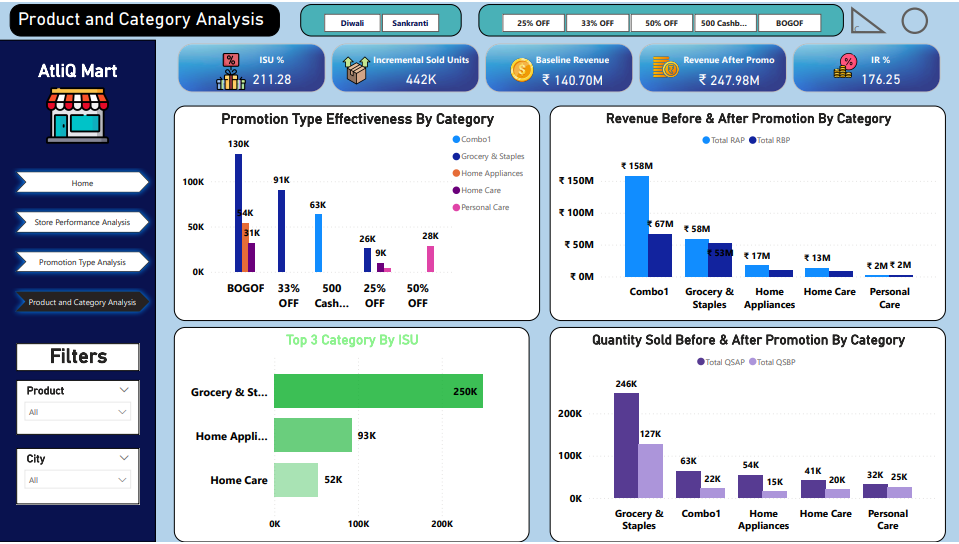

The page's visual inventory and layout, read from the dashboard file:
{"tool":"powerbi","page":{"name":"Product and Category Analysis","canvas":[1280,720],"ordinal":3},"visuals":[{"type":"slicer","fields":{"Values":["dim_campaigns.campaign_name"]},"box":[401.8,2.9,214.6,43.2],"z":0},{"type":"slicer","fields":{"Values":["fact_events.promo_type"]},"box":[639.4,2.9,486.7,43.2],"z":1000},{"type":"actionButton","title":"Clear All Slicers","box":[1136.2,5.8,47.5,36],"z":2000},{"type":"textbox","box":[0,50.4,208.8,669.6],"z":3000},{"type":"slicer","fields":{"Values":["dim_stores.city"]},"box":[23,594.7,164.2,74.9],"z":4000},{"type":"textbox","title":"Filters","box":[23,455,164.2,37.4],"z":5000},{"type":"slicer","fields":{"Values":["dim_products.product_name"]},"box":[23,504,164.2,73.4],"z":6000},{"type":"pageNavigator","box":[14.4,218.9,194.4,205.9],"z":7000},{"type":"actionButton","title":"Clear All Filters","box":[1195,0,51.7,50],"z":8000},{"type":"textbox","title":"Product and Category Analysis","box":[14.4,2.9,360,43.2],"z":9000},{"type":"textbox","title":"AtliQ Mart","box":[23,77.8,164.2,119.5],"z":10000},{"type":"image","box":[37.4,105.1,133.9,92.2],"z":11000},{"type":"cardVisual","fields":{"Data":["Measures (3).ISU %","Measures (3).Total ISU","Measures (3).Total RBP","Measures (3).Total RAP","Measures (3).IR %"]},"box":[233.3,50,1030,75],"z":12000},{"type":"barChart","title":" Top 3 Category By ISU","fields":{"Category":["dim_products.category"],"Y":["Measures (3).Total ISU"]},"box":[233.3,433.4,473.8,286.6],"z":13000},{"type":"clusteredColumnChart","title":"Promotion Type Effectiveness By Category","fields":{"Y":["Measures (3).Total QSAP"],"Category":["fact_events.promo_type"],"Series":["dim_products.category"]},"box":[233.3,138.2,488.2,286.6],"z":14000},{"type":"clusteredColumnChart","title":"Revenue Before & After Promotion By Category","fields":{"Category":["dim_products.category"],"Y":["Measures (3).Total RAP","Measures (3).Total RBP"]},"box":[734.4,138.2,528.5,286.6],"z":15000},{"type":"clusteredColumnChart","title":"Quantity Sold Before & After Promotion By Category","fields":{"Category":["dim_products.category"],"Y":["Measures (3).Total QSAP","Measures (3).Total QSBP"]},"box":[734.4,433.4,528.5,286.6],"z":16000}]}

Visuals, with their boxes in screenshot pixels (x1, y1, x2, y2), scaled from the page's 1280x720 canvas onto the 959x544 screenshot:
slicer - dim_campaigns.campaign_name: x1=301 y1=2 x2=462 y2=35
slicer - fact_events.promo_type: x1=479 y1=2 x2=844 y2=35
"Clear All Slicers" actionButton: x1=851 y1=4 x2=887 y2=32
textbox: x1=0 y1=38 x2=156 y2=543
slicer - dim_stores.city: x1=17 y1=449 x2=140 y2=506
"Filters" textbox: x1=17 y1=344 x2=140 y2=372
slicer - dim_products.product_name: x1=17 y1=381 x2=140 y2=436
pageNavigator: x1=11 y1=165 x2=156 y2=321
"Clear All Filters" actionButton: x1=895 y1=0 x2=934 y2=38
"Product and Category Analysis" textbox: x1=11 y1=2 x2=281 y2=35
"AtliQ Mart" textbox: x1=17 y1=59 x2=140 y2=149
image: x1=28 y1=79 x2=128 y2=149
cardVisual - Measures (3).ISU % x Measures (3).Total ISU: x1=175 y1=38 x2=946 y2=94
" Top 3 Category By ISU" barChart: x1=175 y1=327 x2=530 y2=543
"Promotion Type Effectiveness By Category" clusteredColumnChart: x1=175 y1=104 x2=541 y2=321
"Revenue Before & After Promotion By Category" clusteredColumnChart: x1=550 y1=104 x2=946 y2=321
"Quantity Sold Before & After Promotion By Category" clusteredColumnChart: x1=550 y1=327 x2=946 y2=543
